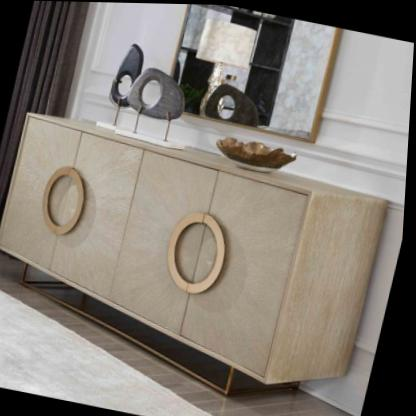Curtains: (0, 1, 89, 232)
Sideboard: (0, 113, 391, 387)
